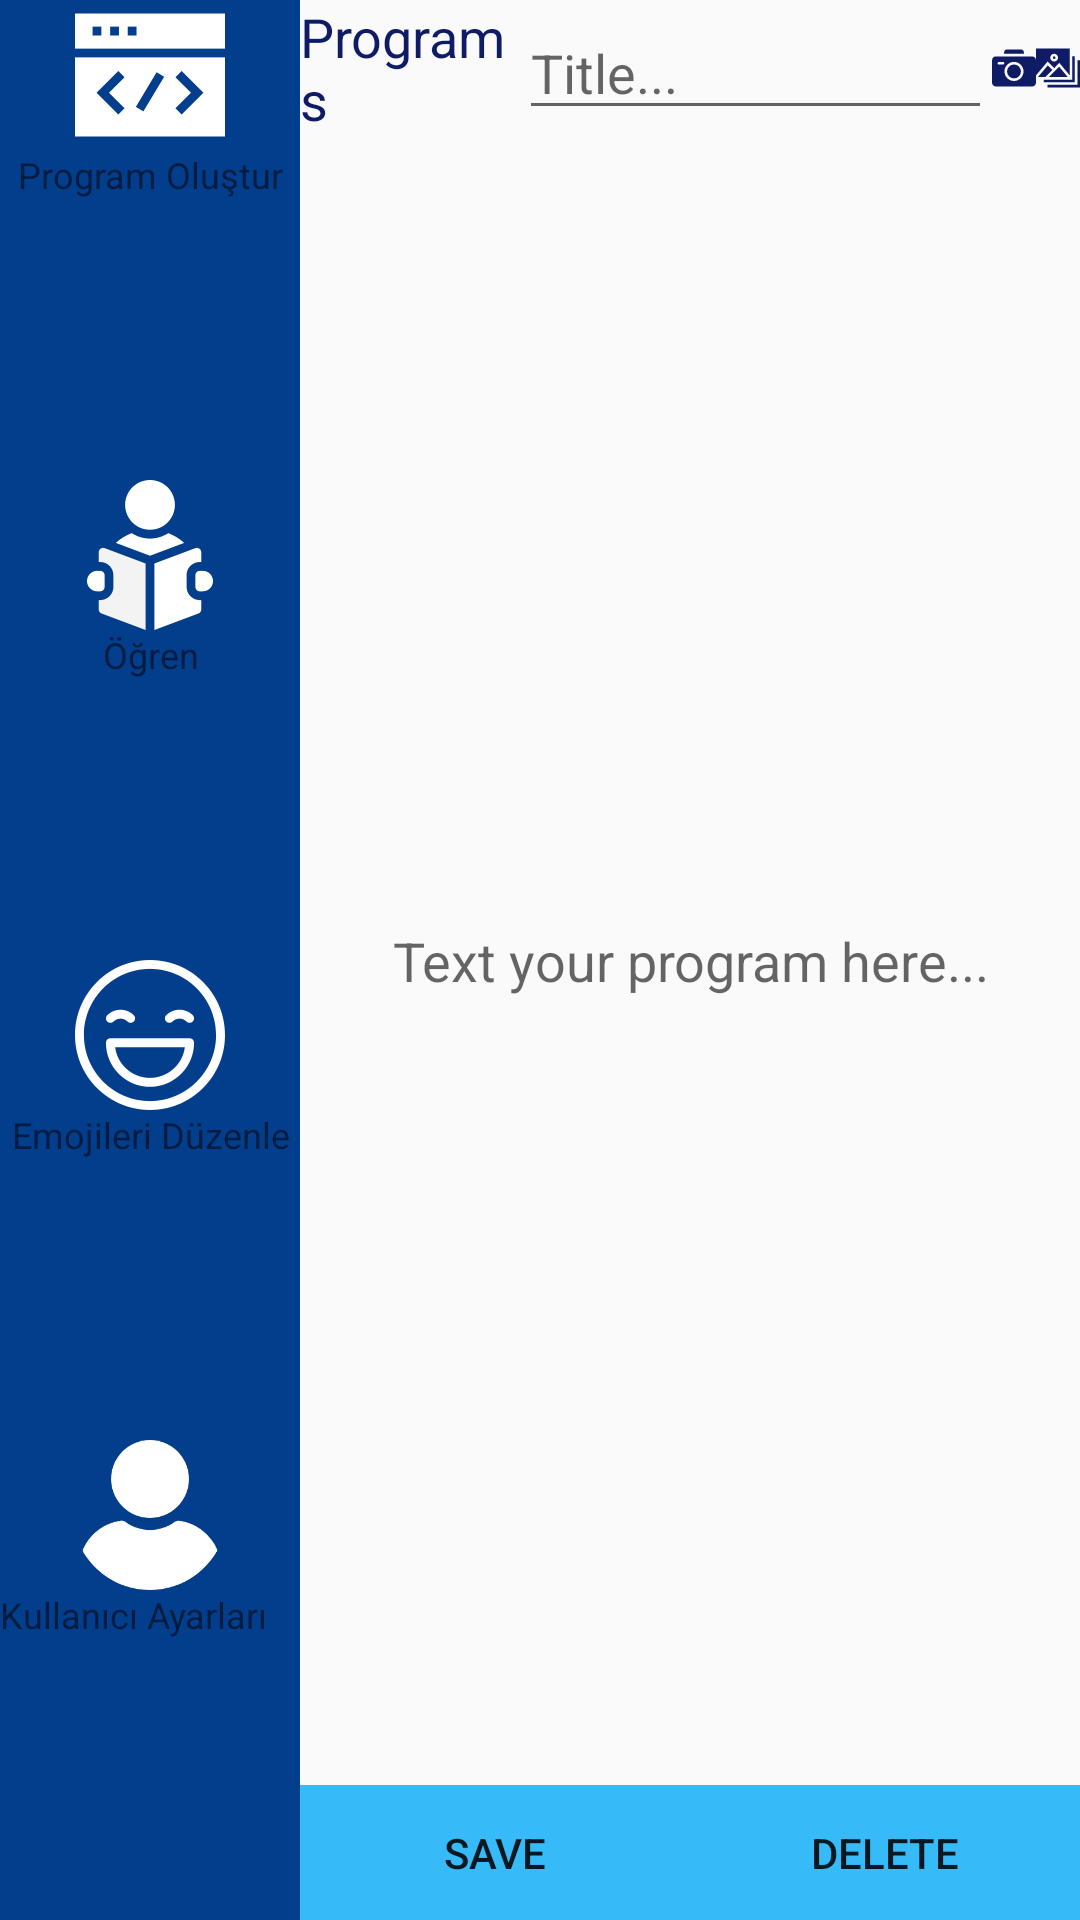

Icons on this 1080×1920 Android screen, each with its box as (x1, y1, x2, y2):
camera: (992, 49, 1036, 87)
coding: (75, 13, 225, 137)
happy: (75, 960, 225, 1110)
